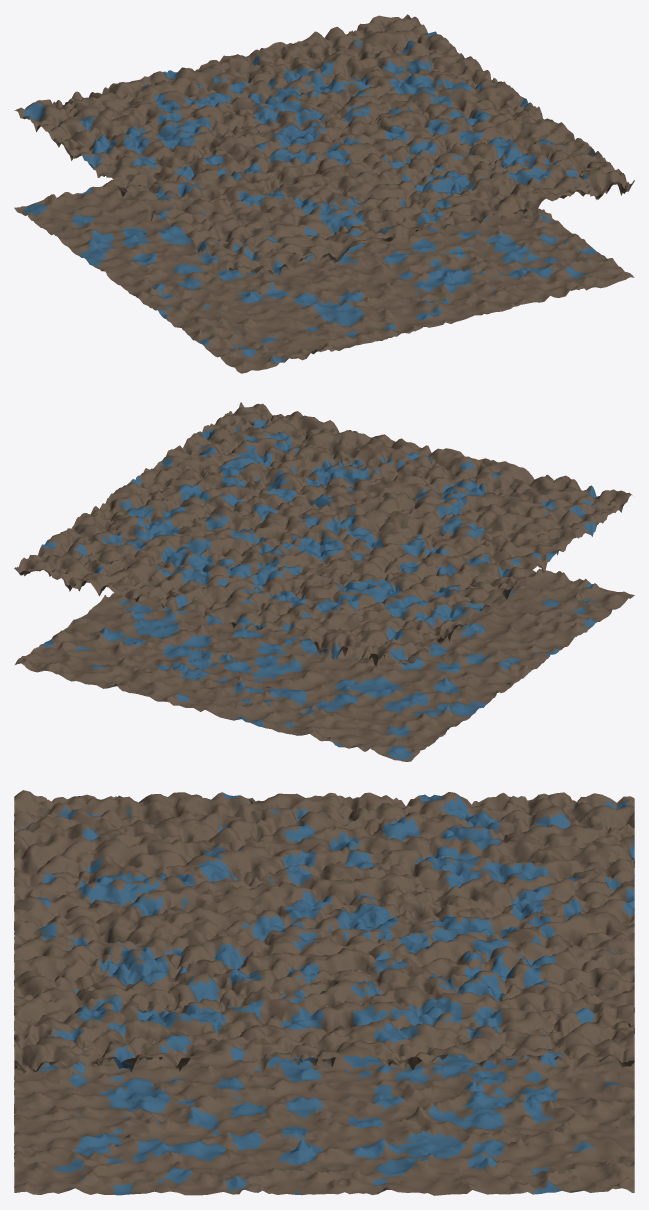
Rendered from U_water_terrain.fbx.
3 views of the same model, one above another, from view 1: azimuth 30°, elevation 25°; view 2: azimuth 150°, elevation 25°; view 3: azimuth 270°, elevation 25° (orthographic). The views are drawn at different scales.
Parts seen in each view (by area): view 1: Landscape; view 2: Landscape; view 3: Landscape.
Boxes of the visible parts, x1,y1,x2,y2 form: Landscape: (14,14,634,373); Landscape: (14,402,634,761); Landscape: (14,790,634,1195).
Size of the model in its own units: 200183 by 51436 by 200140.
